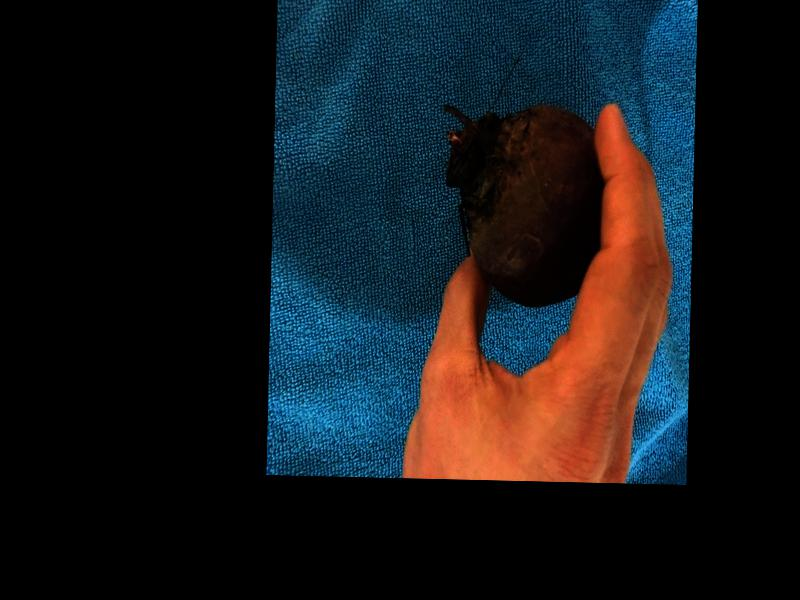Beet: (440, 103, 603, 306)
